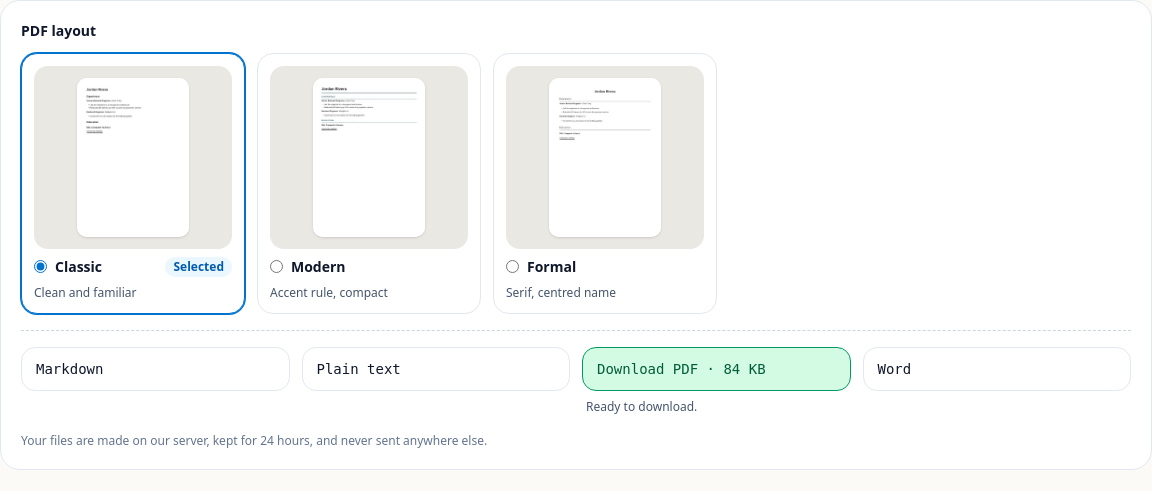
it: ExportBar › AC-42: 404 export_job_not_found maps to "We couldn't find that file"
Click the button "Download PDF · 84 KB" at (716, 369), box x1=582 y1=347 x2=850 y2=391
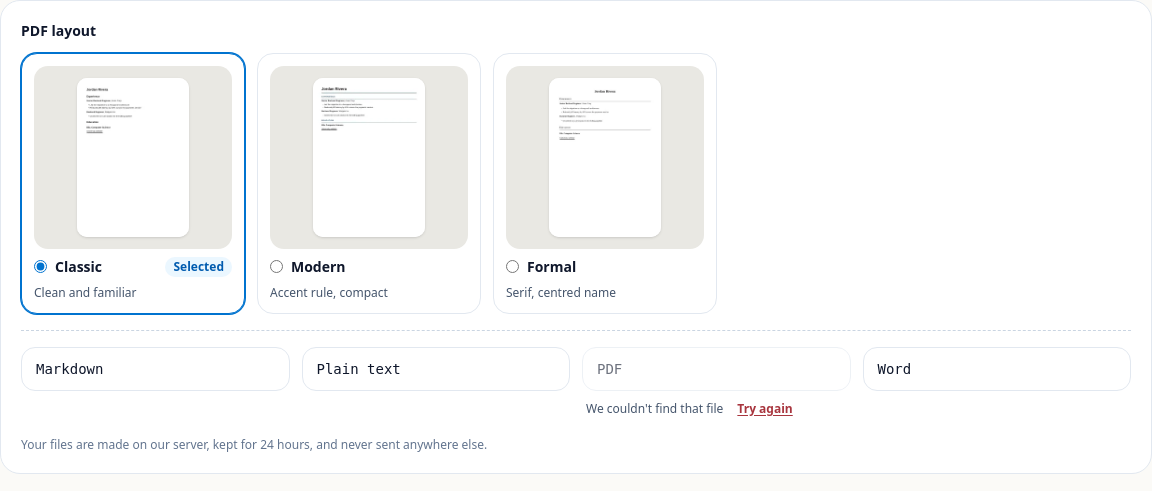
Expected: the text "We couldn't find that file" is shown, x1=586 y1=400 x2=723 y2=417
